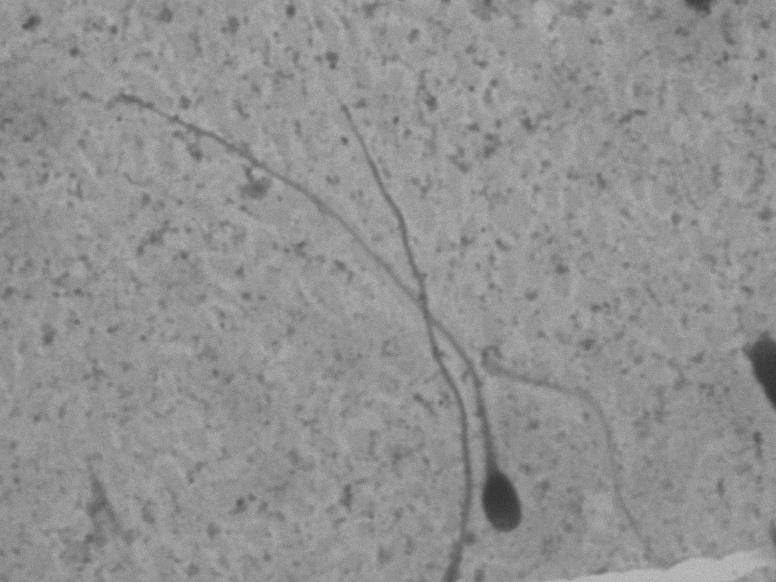Normal: (111, 84, 528, 548)
